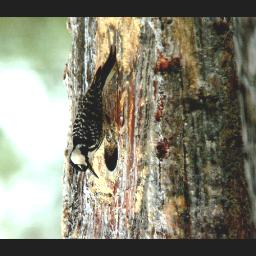Woodpecker: (63, 35, 129, 183)
